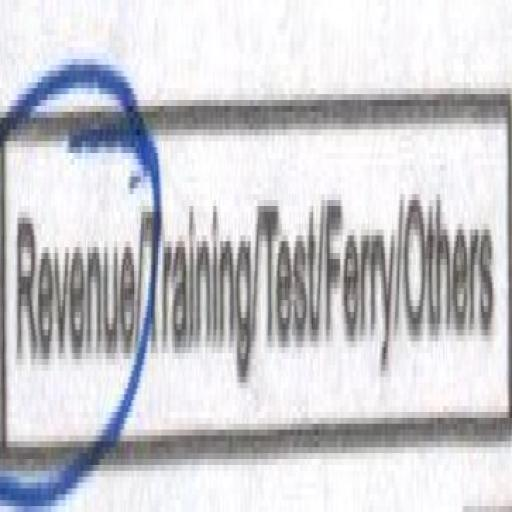check: (2, 65, 138, 505)
